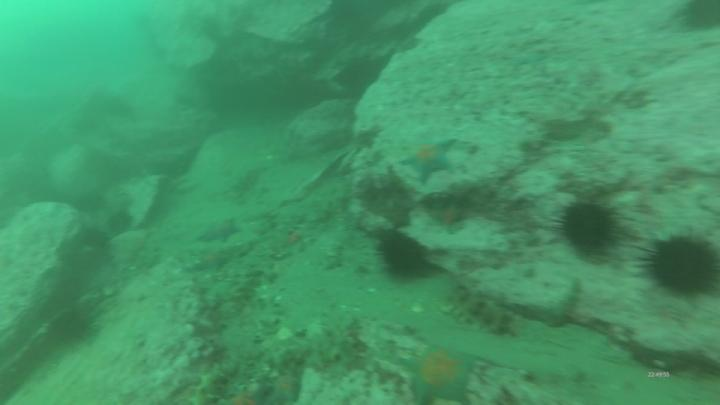echinus: (637, 232, 720, 296), (553, 199, 631, 266), (374, 232, 433, 278), (50, 309, 94, 349), (679, 1, 720, 34), (106, 209, 136, 238)
holothurian: (440, 283, 518, 340), (185, 363, 231, 405)
starfish: (400, 342, 481, 405), (399, 136, 461, 187), (197, 215, 246, 246), (378, 198, 419, 235), (187, 247, 238, 275), (266, 369, 304, 405), (224, 385, 270, 405)
